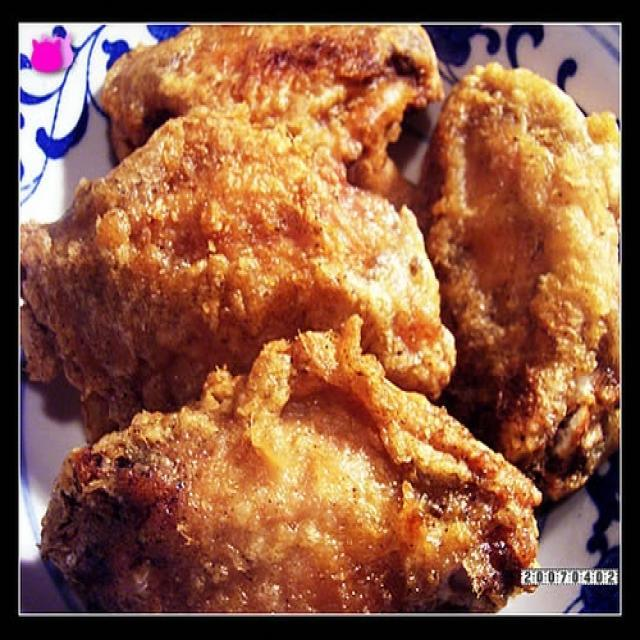Deep fried chicken wing: (27, 40, 608, 596)
